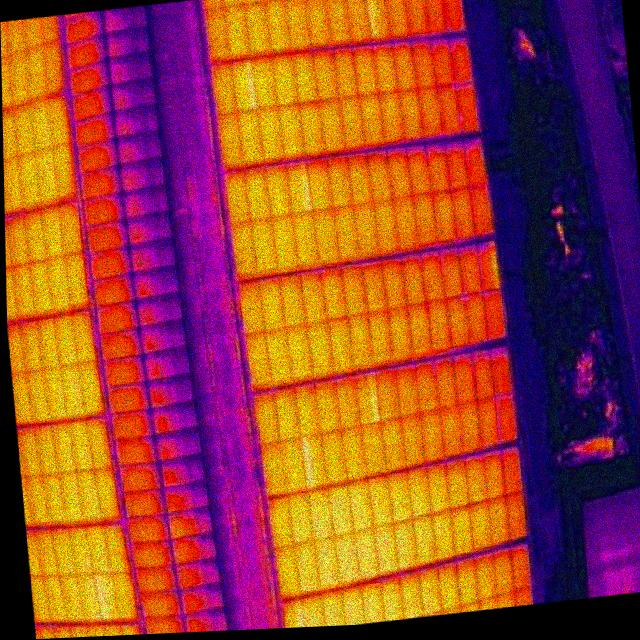Diode: (226, 54, 263, 116), (296, 430, 332, 493), (353, 366, 384, 429), (282, 157, 315, 216), (361, 0, 393, 42)
